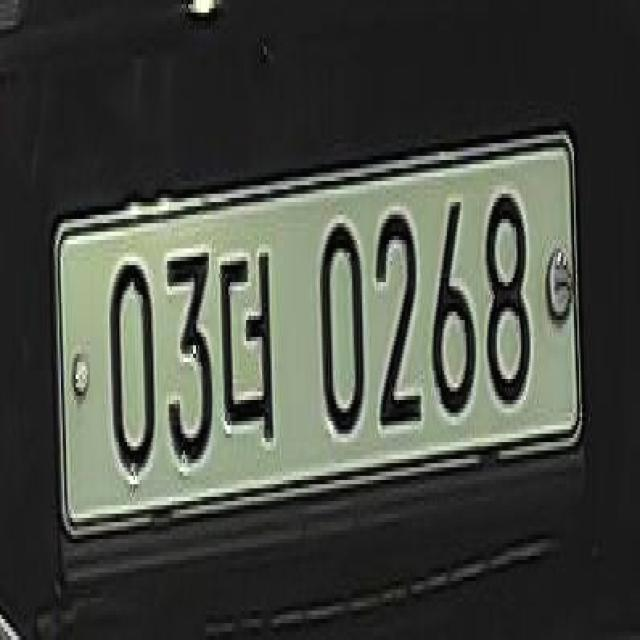illegal_plate: (50, 133, 585, 574)
